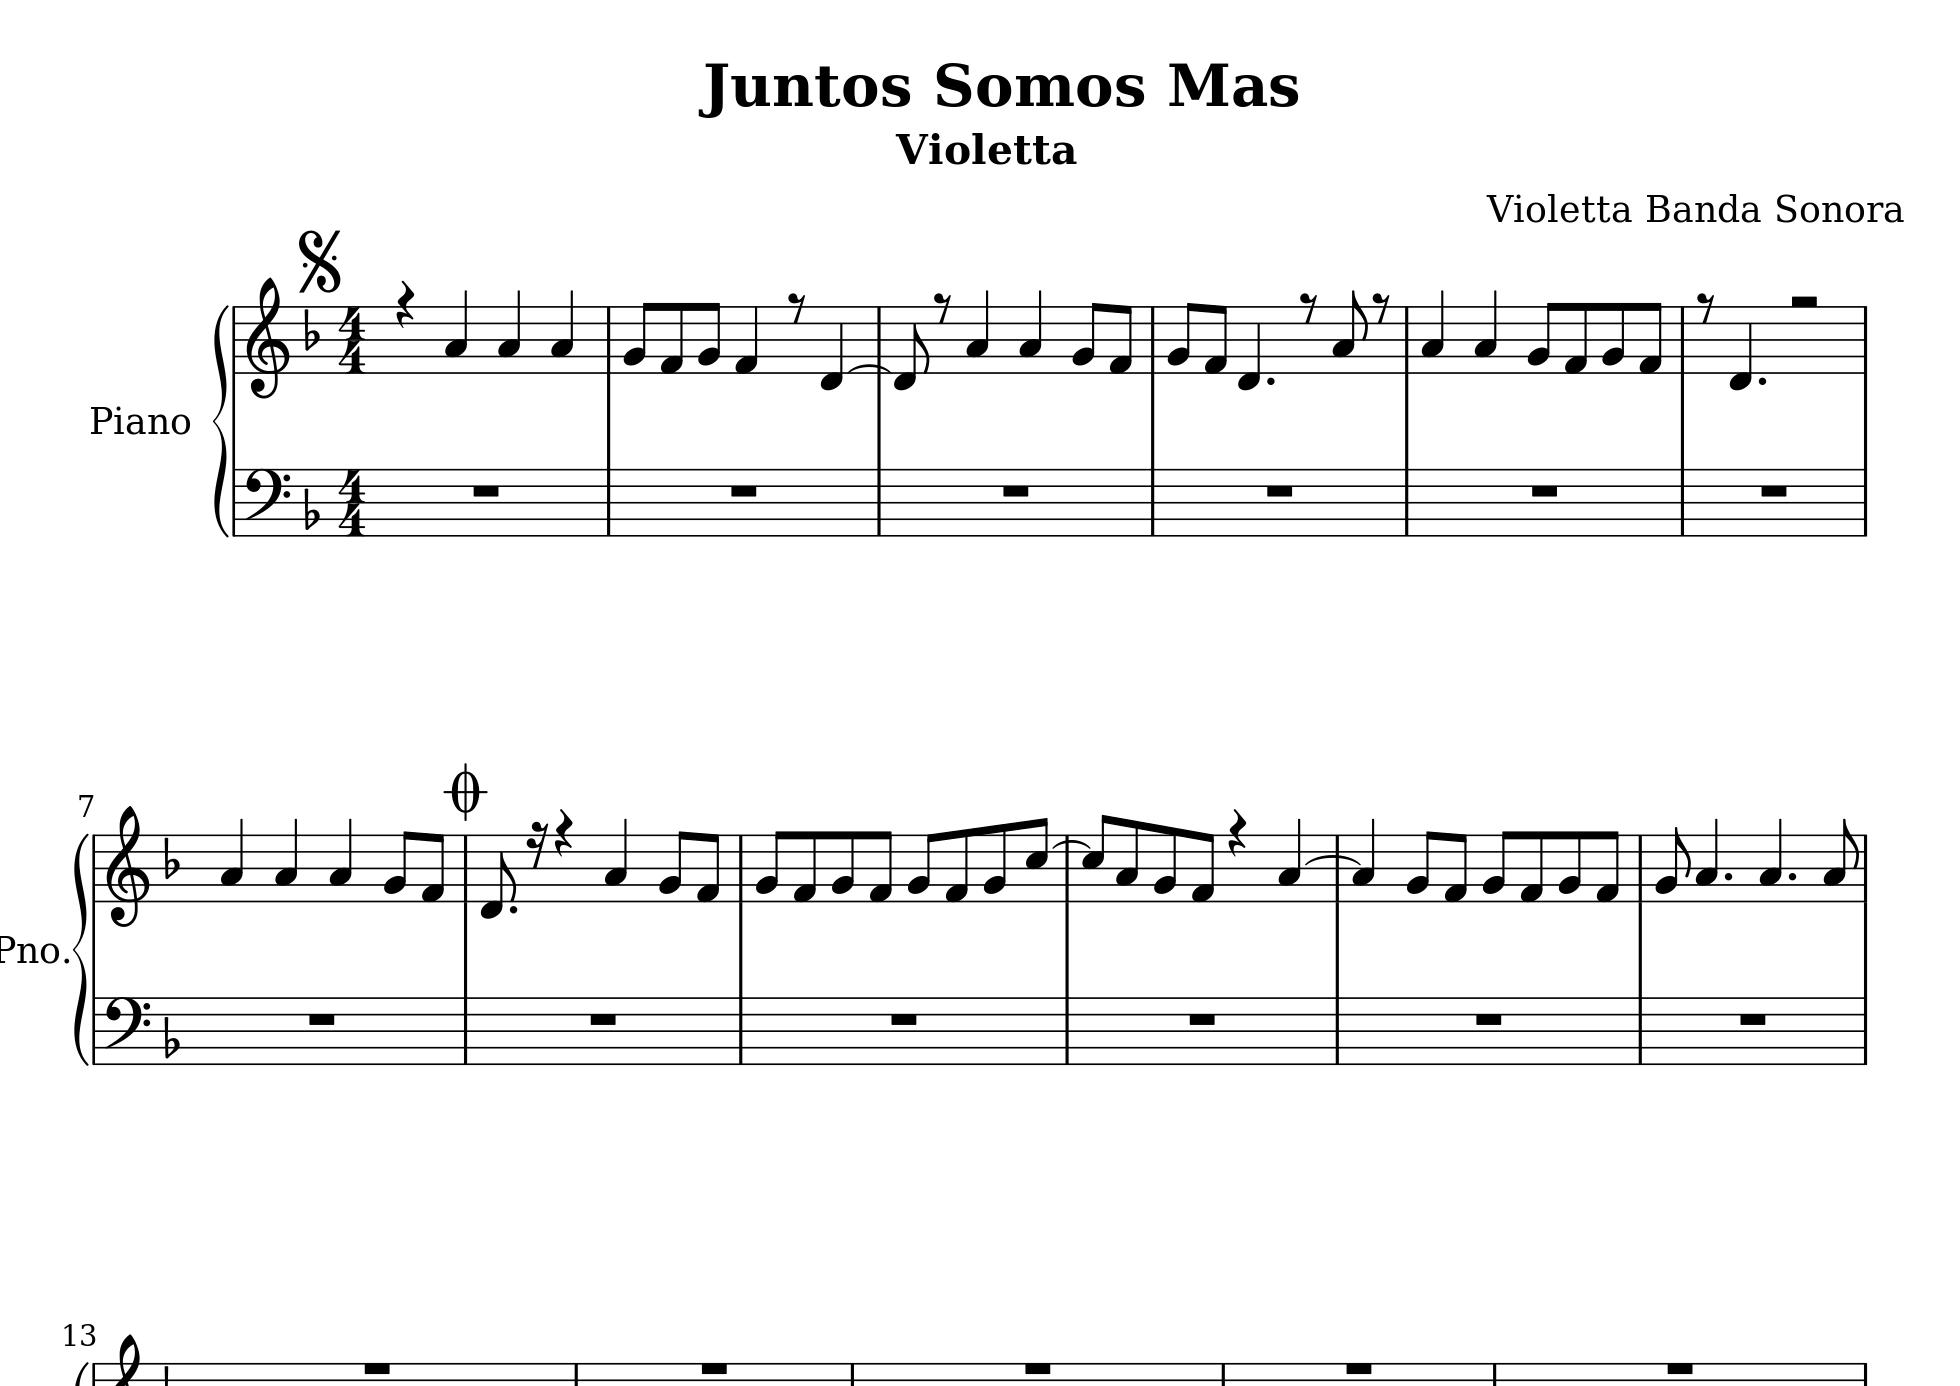1: (63, 1320, 76, 1348)
3: (79, 1320, 97, 1347)
4: (336, 304, 369, 340), (334, 340, 369, 373), (336, 466, 367, 502), (336, 502, 367, 535)
4_3: (1758, 817, 1785, 903), (603, 816, 628, 903), (444, 288, 469, 373), (964, 288, 990, 373), (549, 289, 574, 373), (1018, 289, 1044, 373), (1420, 289, 1446, 373), (1473, 289, 1498, 373), (219, 817, 244, 901), (1695, 817, 1720, 901), (496, 288, 520, 373), (274, 816, 298, 901), (328, 817, 352, 901), (1278, 817, 1302, 901), (1353, 817, 1377, 901)
7: (76, 790, 96, 819)
8_-1: (892, 304, 930, 393), (478, 832, 516, 921), (1236, 303, 1263, 394), (817, 304, 844, 393), (1728, 304, 1753, 393)
8_1: (943, 826, 970, 904), (1518, 828, 1545, 904), (658, 300, 685, 375), (790, 829, 817, 904), (1189, 829, 1216, 904), (1594, 829, 1621, 904), (418, 831, 445, 904), (694, 831, 721, 904), (1443, 831, 1470, 904), (1563, 300, 1588, 376), (867, 828, 892, 904), (1107, 303, 1134, 375), (732, 304, 759, 375), (1203, 303, 1228, 375), (1638, 300, 1662, 376)
8_2: (1653, 823, 1690, 903), (655, 828, 688, 901), (1404, 828, 1437, 901), (904, 829, 937, 901), (1480, 828, 1512, 903), (621, 300, 652, 373), (1165, 300, 1197, 373), (1525, 300, 1557, 373), (753, 828, 784, 901), (381, 829, 412, 901), (981, 820, 1008, 903), (1071, 300, 1101, 373), (1152, 823, 1179, 903), (829, 828, 855, 903), (1557, 828, 1582, 903), (696, 300, 721, 373), (1600, 300, 1626, 373)
8_3: (1822, 817, 1860, 903), (1332, 288, 1368, 373), (1116, 817, 1140, 903)
8_5: (1080, 811, 1114, 901), (1023, 814, 1050, 903)
Brace: (70, 829, 90, 1066), (211, 301, 229, 538)
Coda: (442, 762, 489, 820)
Fclef: (241, 466, 291, 538), (102, 994, 151, 1051)
Flat: (160, 1012, 181, 1060), (160, 834, 181, 880), (301, 306, 321, 352), (301, 484, 321, 529)
Gclef: (103, 804, 150, 928), (244, 274, 289, 400)
Pno: (88, 402, 195, 436), (1, 931, 61, 966)
Rests1: (358, 1357, 394, 1377), (696, 1357, 732, 1377), (1020, 1357, 1056, 1377), (1341, 1357, 1377, 1377), (1662, 1357, 1698, 1377), (886, 1008, 921, 1027), (469, 480, 502, 499), (1263, 481, 1297, 499), (1528, 481, 1563, 499), (304, 1009, 339, 1027), (1185, 1009, 1219, 1027), (727, 481, 760, 499), (999, 481, 1032, 499), (1758, 481, 1791, 499), (586, 1009, 619, 1027), (1473, 1009, 1506, 1027), (1737, 1009, 1770, 1027)
Rests16: (525, 819, 547, 870)
Rests2: (1786, 289, 1821, 310)
Rests4: (394, 277, 415, 330), (553, 807, 574, 859), (1227, 807, 1248, 859)
Rests8: (786, 289, 807, 324), (1299, 289, 1320, 324), (1695, 289, 1716, 322), (933, 291, 952, 324), (1371, 291, 1390, 324)
Segno: (292, 225, 346, 294)
Single_barline: (226, 304, 243, 373), (600, 306, 616, 373), (1632, 834, 1648, 901), (1059, 997, 1075, 1063), (1059, 841, 1077, 901), (1858, 832, 1873, 901), (733, 834, 748, 901), (1857, 997, 1872, 1065), (1399, 307, 1414, 373), (601, 469, 616, 535), (871, 469, 886, 535), (1146, 469, 1161, 535), (1399, 469, 1414, 535), (1857, 469, 1872, 535), (1675, 469, 1690, 535), (457, 835, 472, 901), (1330, 997, 1345, 1063), (1633, 997, 1648, 1063), (457, 997, 472, 1063), (733, 997, 748, 1063), (1857, 307, 1872, 372), (1146, 306, 1159, 373), (228, 468, 241, 535), (87, 834, 100, 901), (88, 996, 102, 1063), (1675, 307, 1689, 372)
Slur: (1303, 853, 1362, 867), (1053, 838, 1090, 850), (847, 363, 888, 373)
TimeSig: (336, 466, 369, 535), (336, 304, 367, 373)
dot: (1722, 868, 1735, 882), (1786, 868, 1798, 882), (507, 903, 520, 915), (1264, 373, 1276, 385), (1756, 373, 1768, 385)
